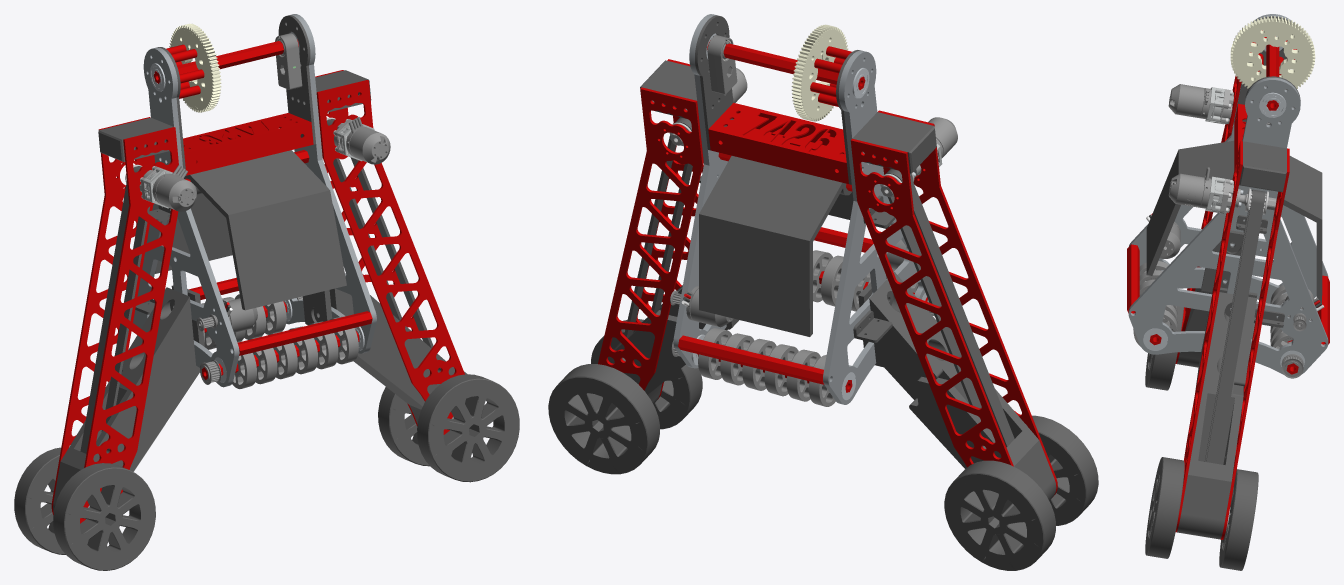
Rendered from robot-2025-claw-fast.glb.
3 renders of one model, left to right at view 1: azimuth 30°, elevation 25°; view 2: azimuth 150°, elevation 25°; view 3: azimuth 270°, elevation 25°, orthographic. The views are drawn at different scales.
Visible parts, largest first — view 1: AlgaePlates (×4), CoralHardStop, Part 1 (×4), 4inWheels (×4), RightFunnel, ClawRightPlate, AlgaeBelt (×2), LeftFunnel, BackSupportTube, 2" OD 1/2" Hex Bore Compliant Wheel 60A (am-3462) (×6), ClawLeftPlate, NEO 550 Motor (REV-21-1651) (×2) (+7 smaller); view 2: AlgaePlates (×4), Part 1 (×4), CoralHardStop, RightFunnel, ClawRightPlate, BackSupportTube, AlgaeBelt (×2), 4inWheels (×3), 2" OD 1/2" Hex Bore Compliant Wheel 60A (am-3462) (×6), ClawLeftPlate, BackAlgaeTube (×2), 74t Aluminum Spur Gear (20 DP, SplineXL Bore) (+9 smaller); view 3: ClawLeftPlate, LeftFunnel, Part 1 (×3), CoralHardStop, AlgaePlates (×3), AlgaeBelt, 74t Aluminum Spur Gear (20 DP, SplineXL Bore), ClawRightPlate, NEO 550 Motor (REV-21-1651) (×2), RightFunnel, ClawSpacerChurro (×2), BackAlgaeTube (+10 smaller).
Boxes of the visible parts, <box> form: AlgaePlates (×4): <box>51,70,464,523</box>; CoralHardStop: <box>155,150,346,310</box>; Part 1 (×4): <box>14,367,519,570</box>; 4inWheels (×4): <box>30,384,514,565</box>; RightFunnel: <box>53,285,204,512</box>; ClawRightPlate: <box>133,47,239,387</box>; AlgaeBelt (×2): <box>80,119,433,453</box>; LeftFunnel: <box>302,288,465,423</box>; BackSupportTube: <box>183,113,313,175</box>; 2" OD 1/2" Hex Bore Compliant Wheel 60A (am-3462) (×6): <box>232,316,358,389</box>; ClawLeftPlate: <box>286,14,376,353</box>; NEO 550 Motor (REV-21-1651) (×2): <box>152,117,390,211</box>; AlgaePlates (×4): <box>598,59,1057,496</box>; Part 1 (×4): <box>548,319,1098,570</box>; CoralHardStop: <box>699,156,889,336</box>; RightFunnel: <box>858,272,1056,500</box>; ClawRightPlate: <box>823,50,925,404</box>; BackSupportTube: <box>708,102,848,183</box>; AlgaeBelt (×2): <box>624,117,1014,447</box>; 4inWheels (×3): <box>555,384,1078,563</box>; 2" OD 1/2" Hex Bore Compliant Wheel 60A (am-3462) (×6): <box>698,255,843,401</box>; ClawLeftPlate: <box>673,14,728,368</box>; BackAlgaeTube (×2): <box>642,61,932,169</box>; 74t Aluminum Spur Gear (20 DP, SplineXL Bore): <box>791,24,848,121</box>; ClawLeftPlate: <box>1128,77,1328,374</box>; LeftFunnel: <box>1177,286,1257,539</box>; Part 1 (×3): <box>1145,306,1258,570</box>; CoralHardStop: <box>1146,140,1322,302</box>; AlgaePlates (×3): <box>1175,76,1289,539</box>; AlgaeBelt: <box>1204,189,1265,463</box>; 74t Aluminum Spur Gear (20 DP, SplineXL Bore): <box>1230,16,1315,88</box>; ClawRightPlate: <box>1129,14,1328,303</box>; NEO 550 Motor (REV-21-1651) (×2): <box>1168,84,1211,208</box>; RightFunnel: <box>1177,230,1244,367</box>; ClawSpacerChurro (×2): <box>1127,244,1329,344</box>; BackAlgaeTube: <box>1243,141,1286,171</box>.
Bounding box in the file's own units: 0.5684 × 0.5643 × 0.2313.
